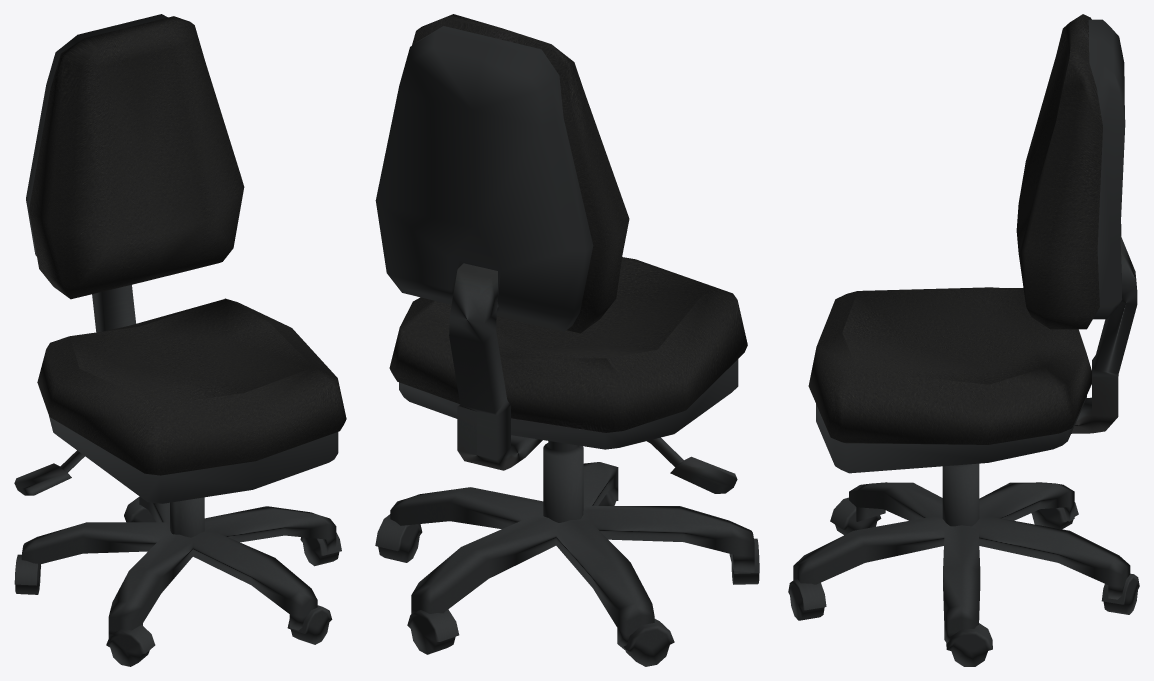
The picture shows the model from 3 angles, left to right: view 1: azimuth 30°, elevation 25°; view 2: azimuth 150°, elevation 25°; view 3: azimuth 270°, elevation 25°; orthographic projection. The views are drawn at different scales.
Visible parts, largest first — view 1: OfficeChair_Mesh; view 2: OfficeChair_Mesh; view 3: OfficeChair_Mesh.
Boxes of the visible parts, box(x1,y1,x2,y2) form: OfficeChair_Mesh: box(14, 14, 346, 666); OfficeChair_Mesh: box(375, 14, 759, 666); OfficeChair_Mesh: box(788, 14, 1139, 666).
Size of the model in its own units: 1.14 by 1.89 by 1.08.
Materials: 1 (1 with a texture image).
